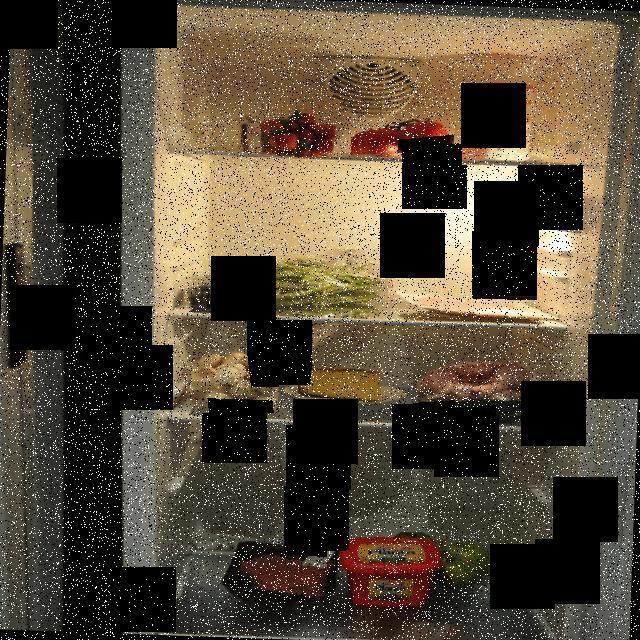apple: (394, 531, 490, 585)
blueberries: (190, 276, 264, 312)
butter: (332, 532, 447, 618)
cheese: (298, 364, 388, 404)
chicken: (413, 362, 543, 424)
green_beans: (202, 249, 393, 311)
ground_beef: (233, 538, 327, 602)
ham: (388, 288, 558, 319)
mushrooms: (193, 349, 279, 413)
strawberries: (230, 103, 344, 157)
sugar: (462, 80, 548, 165)
tomato: (352, 118, 458, 158)
